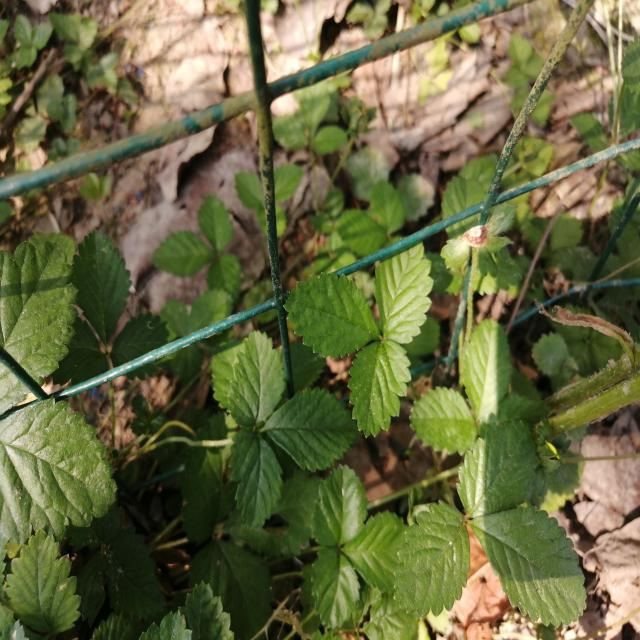Mock_strawberry: (378, 408, 596, 628), (206, 340, 354, 528), (310, 260, 438, 443)
